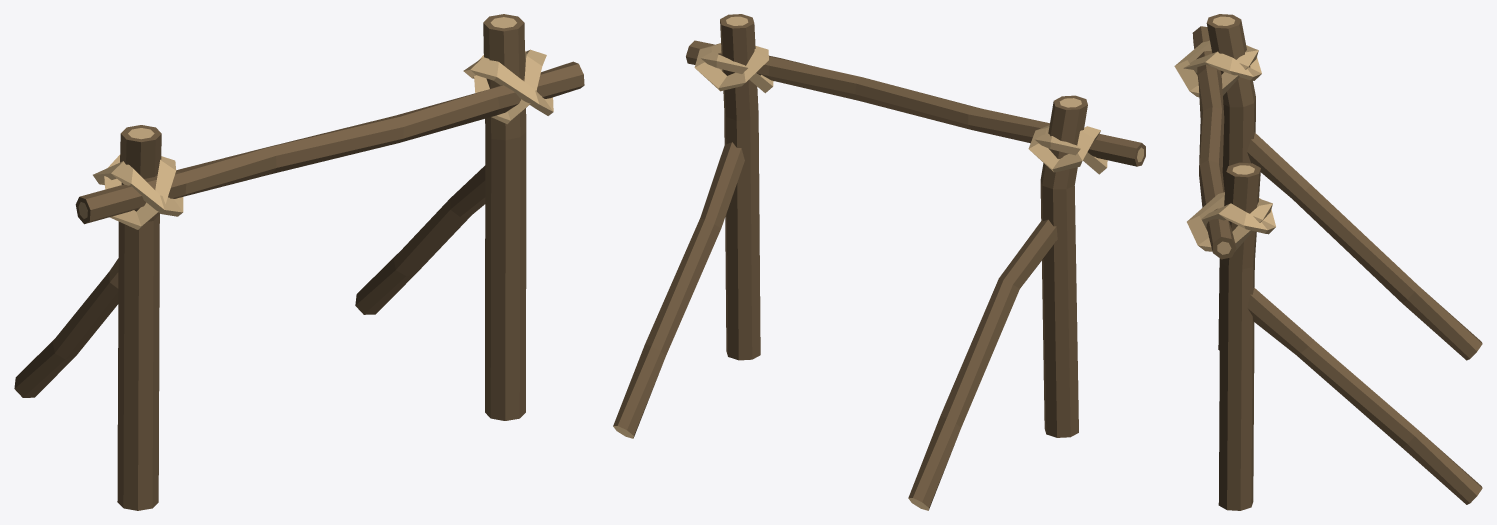
The model's file is rpgpp_ag_gate_small_01.fbx.
3 renders of one model, left to right at view 1: azimuth 30°, elevation 25°; view 2: azimuth 150°, elevation 25°; view 3: azimuth 270°, elevation 25°, orthographic. The views are drawn at different scales.
Parts seen in each view (by area): view 1: rpgpp_ag_gate_small_01; view 2: rpgpp_ag_gate_small_01; view 3: rpgpp_ag_gate_small_01.
Part boxes in pixels (bbox=[...]): rpgpp_ag_gate_small_01: bbox=[14, 14, 584, 510]; rpgpp_ag_gate_small_01: bbox=[613, 14, 1145, 510]; rpgpp_ag_gate_small_01: bbox=[1174, 14, 1482, 510].
Bounding box in the file's own units: 7.2 × 5.23 × 4.36.
